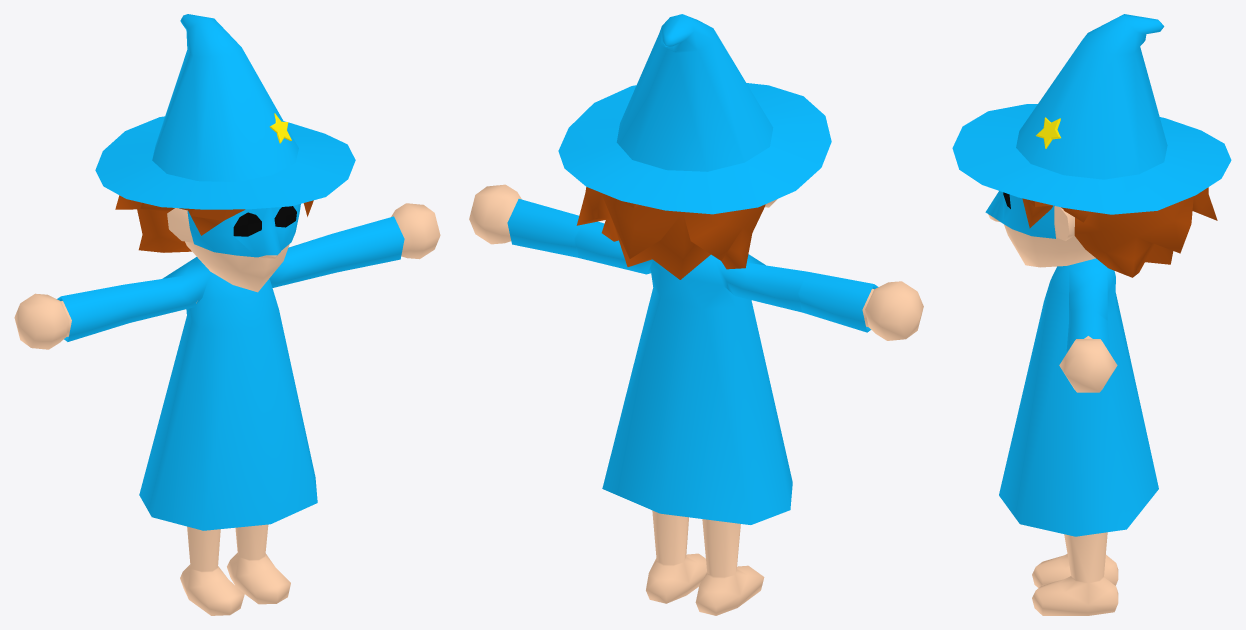
Rendered from cha_6.glb.
3 renders of one model, left to right at view 1: azimuth 30°, elevation 25°; view 2: azimuth 150°, elevation 25°; view 3: azimuth 270°, elevation 25°, orthographic. The views are drawn at different scales.
Visible parts, largest first — view 1: Robe, Chapeau, Bas, Haut, Masque, Visage, Cheveux; view 2: Robe, Chapeau, Cheveux, Bas, Haut; view 3: Chapeau, Robe, Cheveux, Bas, Visage, Haut, Masque, Etoile.
Boxes of the visible parts, x1,y1,x2,y2 form: Robe: [57, 216, 404, 530]; Chapeau: [95, 14, 355, 209]; Bas: [180, 524, 290, 615]; Haut: [14, 203, 440, 349]; Masque: [187, 204, 300, 257]; Visage: [167, 208, 289, 292]; Cheveux: [115, 195, 313, 252]; Robe: [507, 199, 878, 524]; Chapeau: [558, 14, 831, 214]; Cheveux: [576, 187, 765, 279]; Bas: [646, 510, 764, 615]; Haut: [469, 184, 923, 340]; Chapeau: [952, 14, 1231, 214]; Robe: [999, 258, 1158, 536]; Cheveux: [1022, 187, 1217, 277]; Bas: [1032, 532, 1118, 615]; Visage: [988, 206, 1095, 267]; Haut: [1059, 336, 1117, 392]; Masque: [985, 191, 1055, 238]; Etoile: [1036, 117, 1060, 148].
Size of the model in its own units: 1436 by 1836 by 802.
